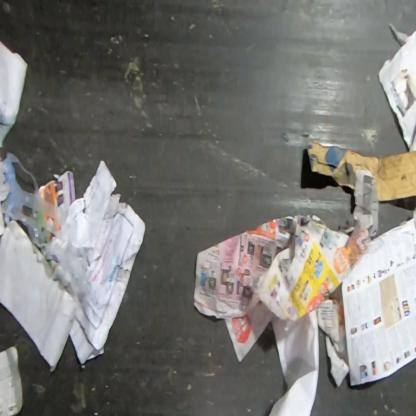cardboard: (305, 139, 415, 202)
soft_plastic: (1, 151, 79, 246)
